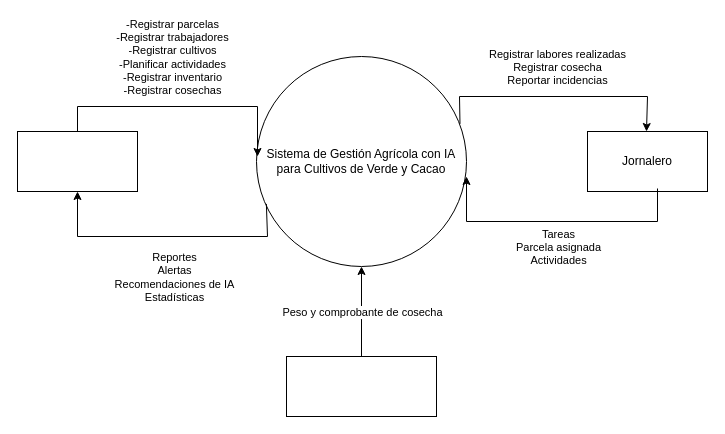
Some shapes in this 725 by 434 pixel diagram are drawn without their labels. The centre of each missing label's shape, as x and y in pixels:
"Administrador" goes at [77,161].
"Centro de acopio" goes at [361,386].
